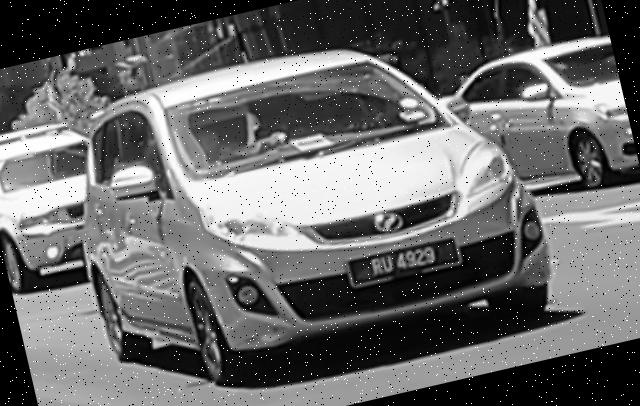License_Plate: (343, 234, 462, 291)
car: (48, 2, 564, 406), (432, 30, 640, 218)
